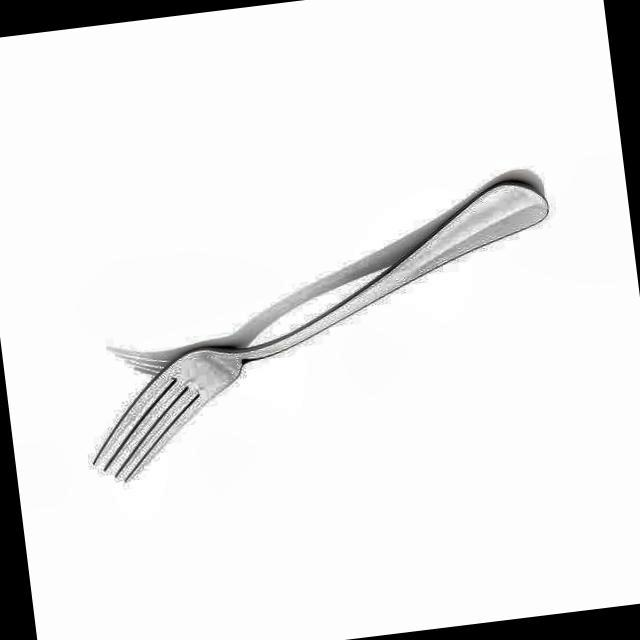Fork: (93, 182, 547, 480)
